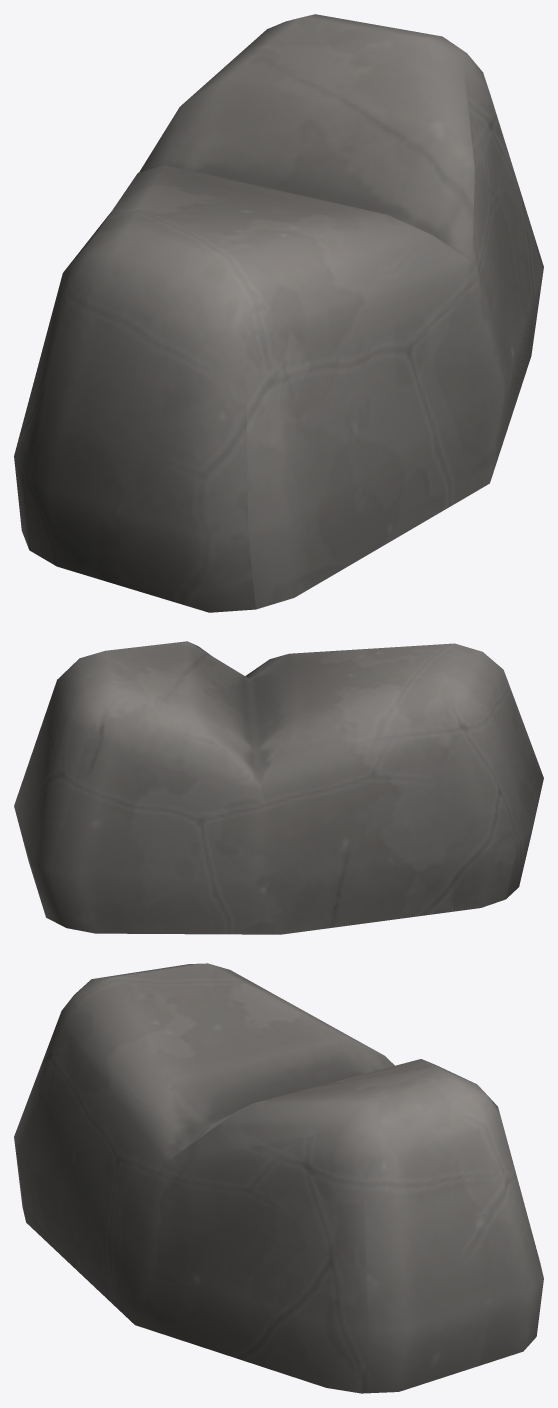
The model's file is Stones01_2.FBX.
3 views of the same model, one above another, from view 1: azimuth 30°, elevation 25°; view 2: azimuth 150°, elevation 25°; view 3: azimuth 270°, elevation 25° (orthographic). The views are drawn at different scales.
Parts seen in each view (by area): view 1: Stones01_2; view 2: Stones01_2; view 3: Stones01_2.
Part boxes in pixels (x1,y1,x2,y2): Stones01_2: (14,14,543,612); Stones01_2: (14,641,543,934); Stones01_2: (14,963,543,1393).
Size of what is drawn, in the model's own units: 1.57 by 0.7731 by 1.46.
